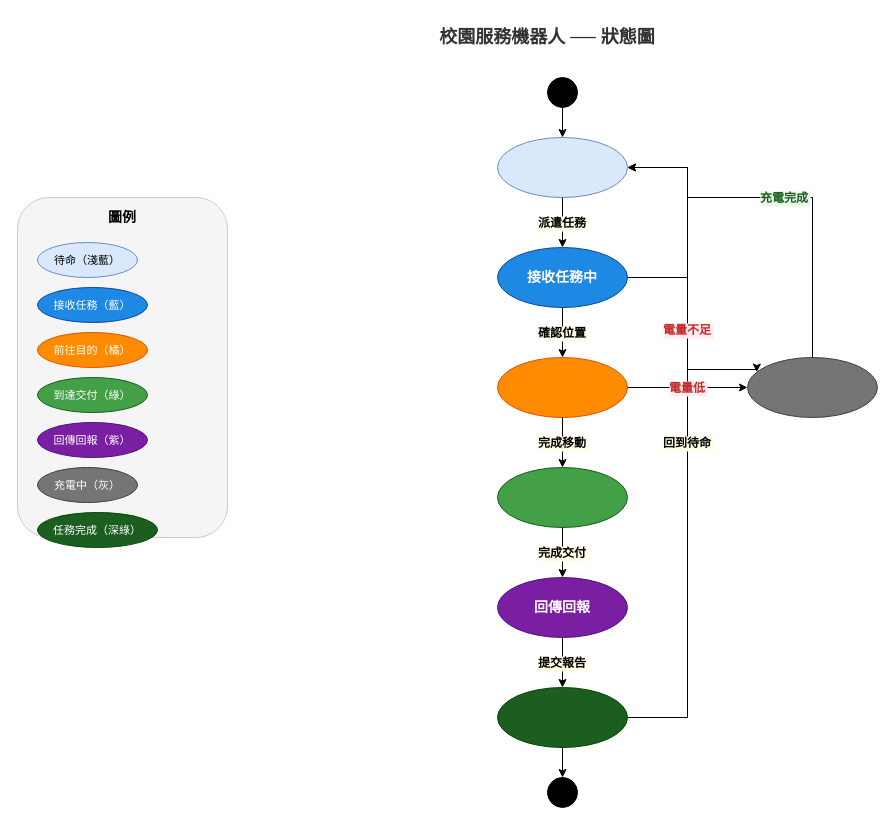
This 895x825 diagram has some shape labels left out. The centre of each missing label's shape, as x and y in pixels:
任務完成: [562,717]
充電中: [812,387]
到達交付: [562,497]
前往目的地: [562,387]
待命: [562,167]
